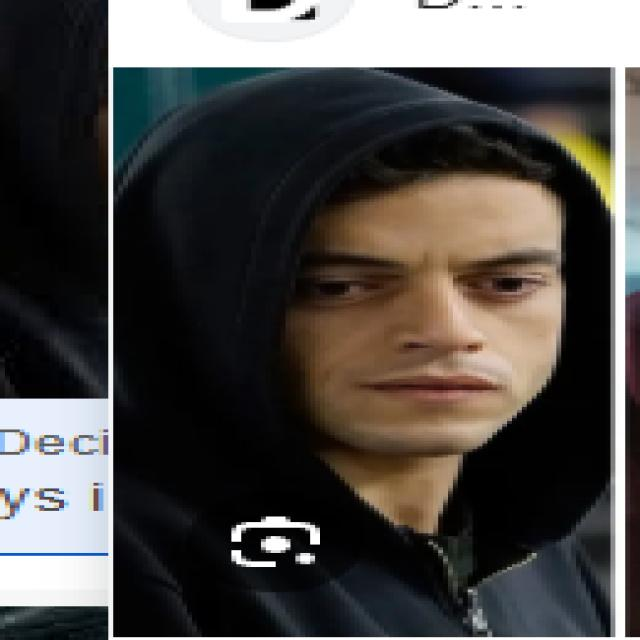4_capucha: (119, 69, 615, 550)
